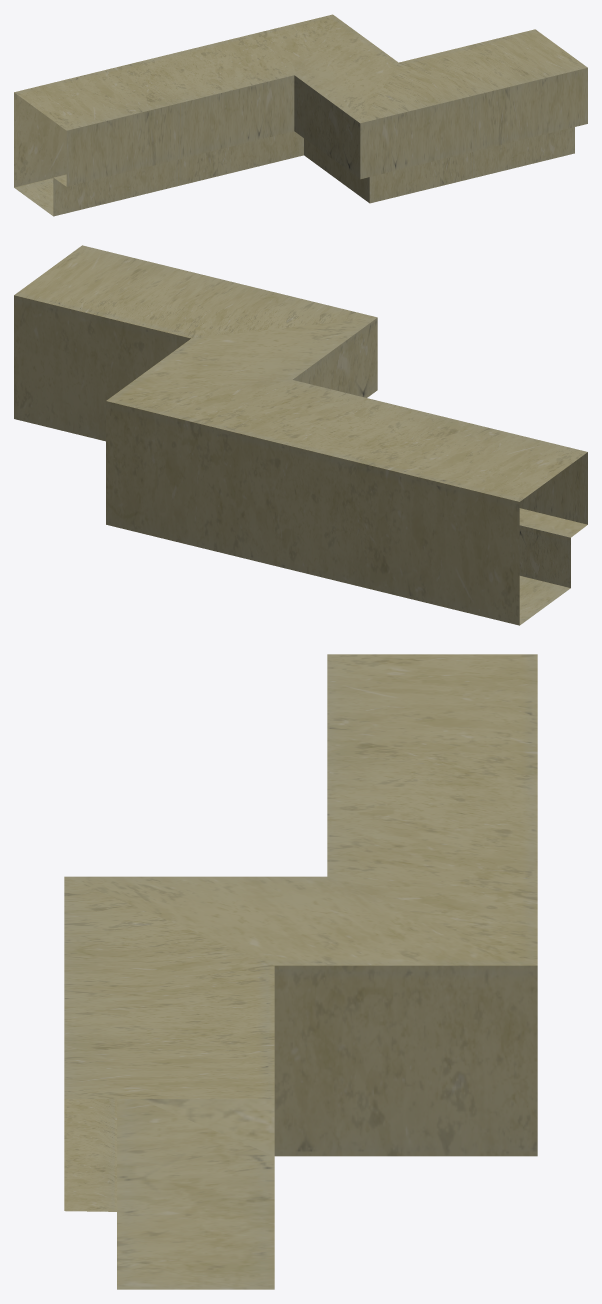
The model's file is Cornice_WhiteBrick_90Angle_R.gltf.
3 renders of one model, top to bottom at view 1: azimuth 30°, elevation 25°; view 2: azimuth 150°, elevation 25°; view 3: azimuth 270°, elevation 25°, orthographic. The views are drawn at different scales.
Visible parts, largest first — view 1: Cornice_WhiteBrick_90Angle_R; view 2: Cornice_WhiteBrick_90Angle_R; view 3: Cornice_WhiteBrick_90Angle_R.
Boxes of the visible parts, bbox=[...] form: Cornice_WhiteBrick_90Angle_R: bbox=[14, 14, 587, 216]; Cornice_WhiteBrick_90Angle_R: bbox=[14, 245, 587, 625]; Cornice_WhiteBrick_90Angle_R: bbox=[64, 654, 537, 1289].
Bounding box in the file's own units: 2 × 0.4 × 0.9.
1 material, 1 textured.
